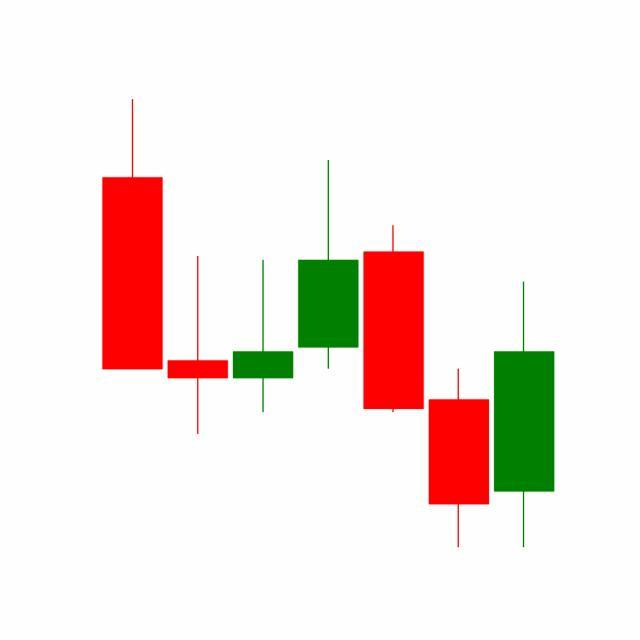Three Outside Up-Down: (295, 156, 492, 549)
